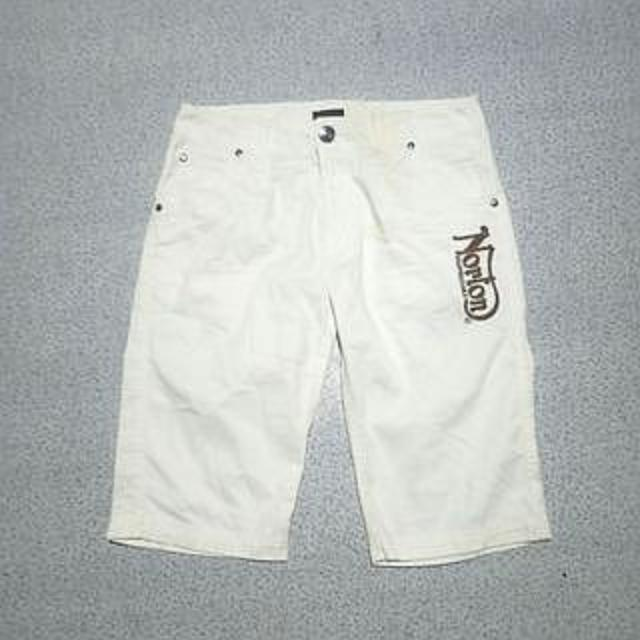TROUSER: (82, 85, 600, 572)
